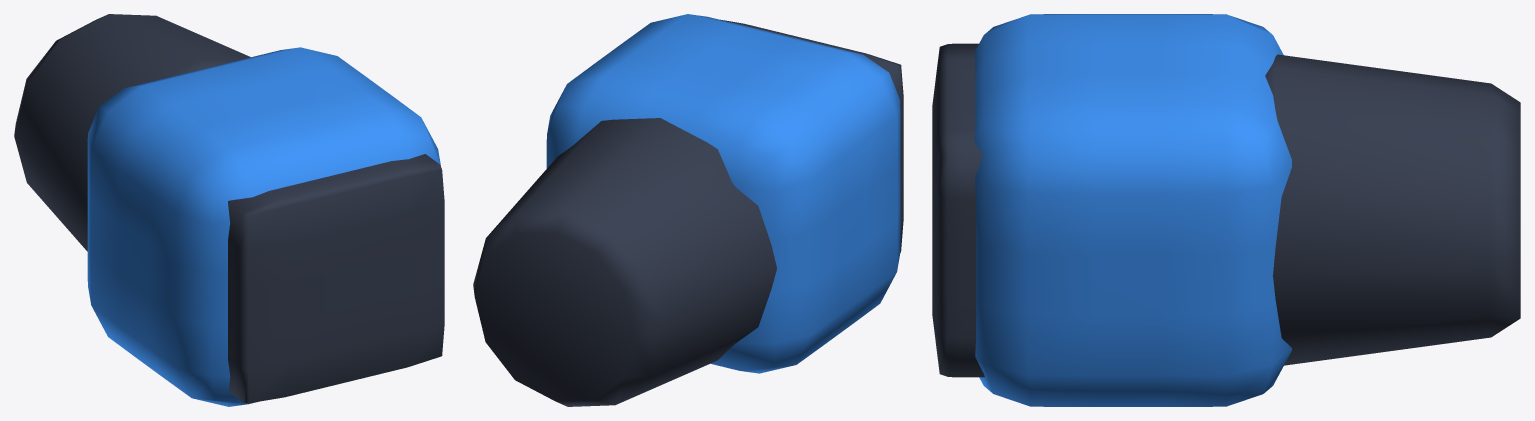
Rendered from glove_piledriver.obj.
The picture shows the model from 3 angles, left to right: view 1: azimuth 30°, elevation 25°; view 2: azimuth 150°, elevation 25°; view 3: azimuth 270°, elevation 25°; orthographic projection. The views are drawn at different scales.
Bounding box in the file's own units: 0.36 × 0.34 × 0.6.
